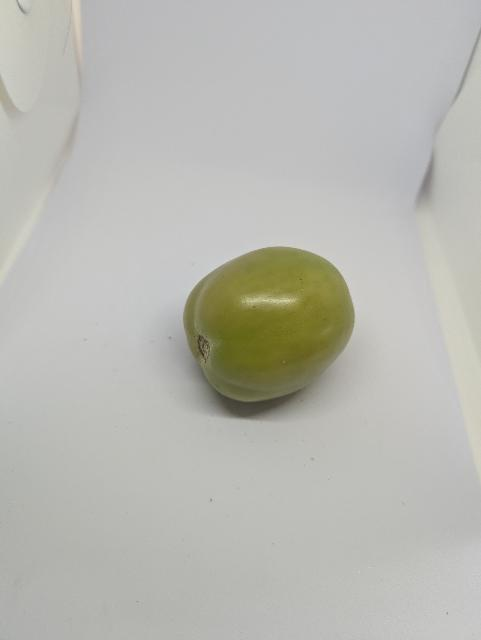green: (167, 230, 387, 425)
